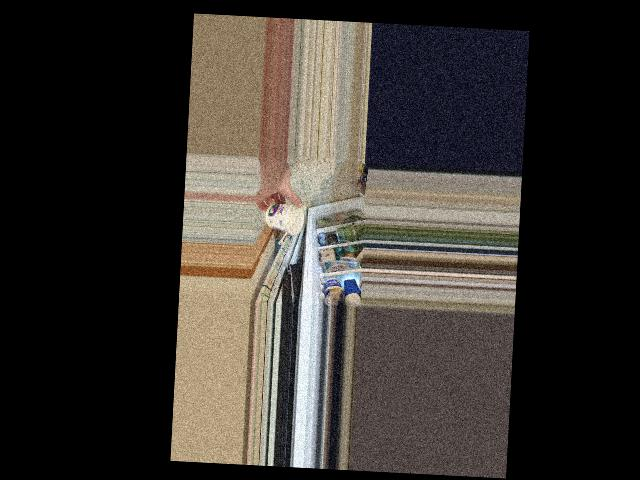cotage: (266, 201, 306, 234)
